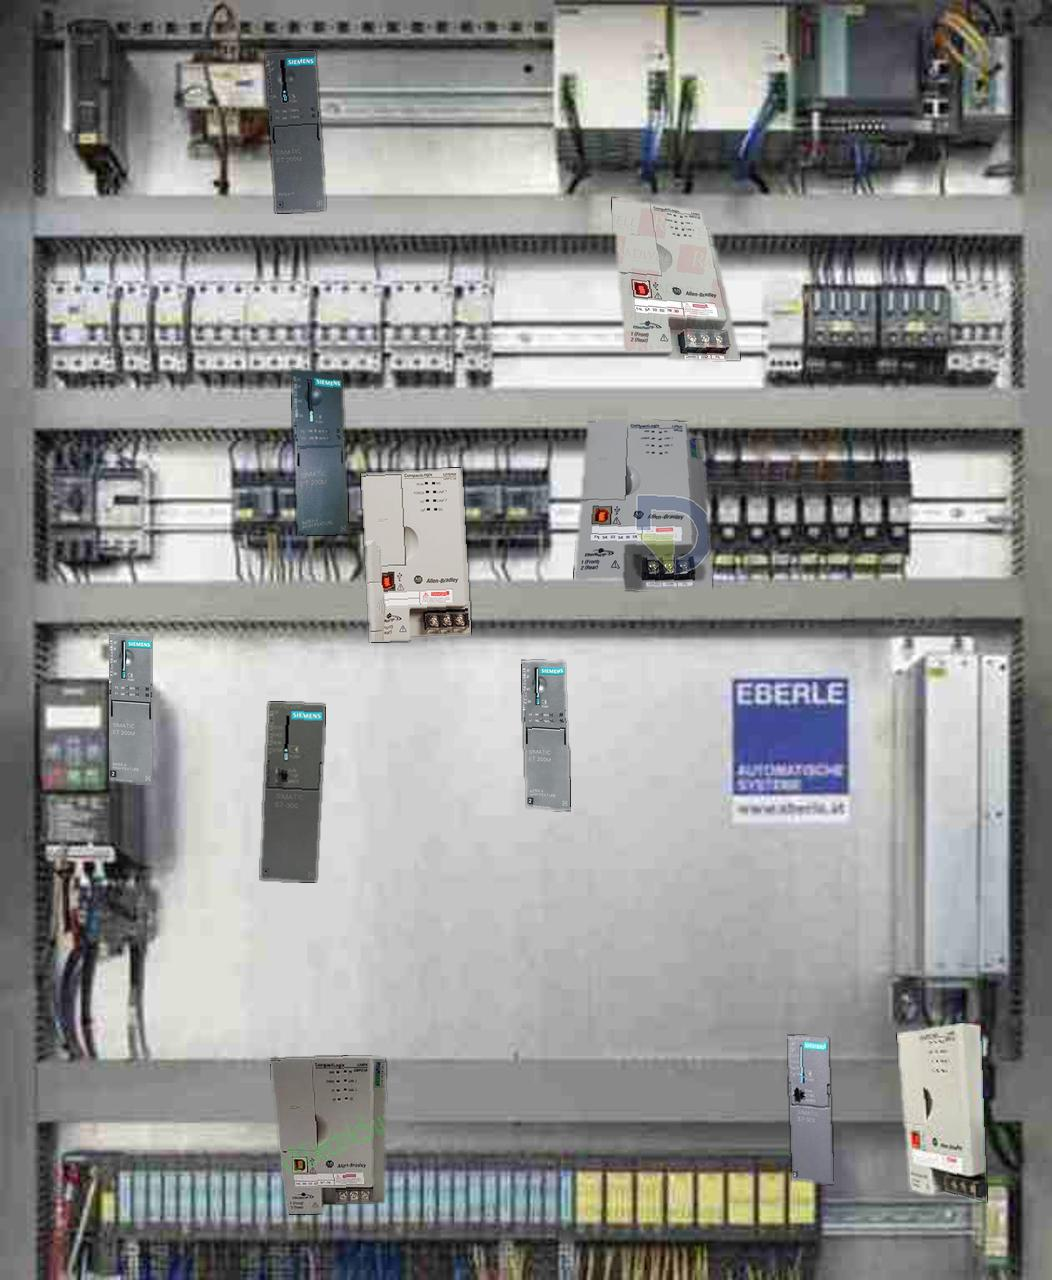AllenBradley: (574, 421, 711, 590), (612, 198, 739, 359), (361, 468, 470, 641), (270, 1056, 385, 1214), (897, 1023, 986, 1201)
Siemens: (260, 702, 325, 881), (788, 1035, 832, 1183)
